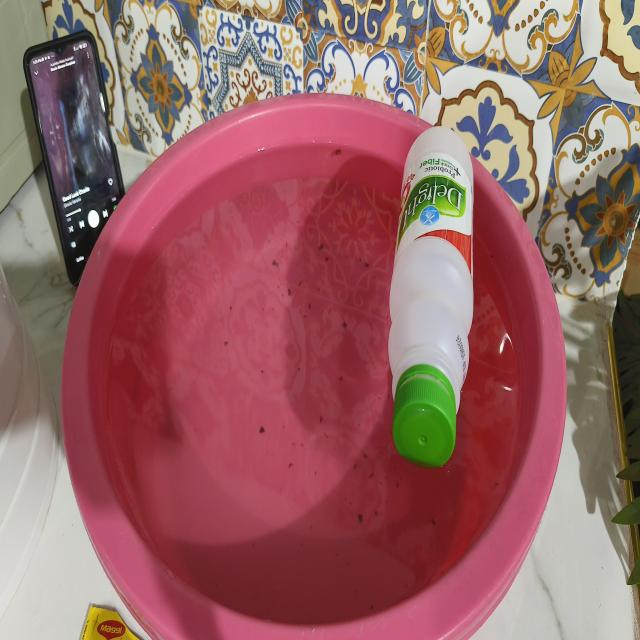Plastic Bottle: (388, 127, 474, 467)
